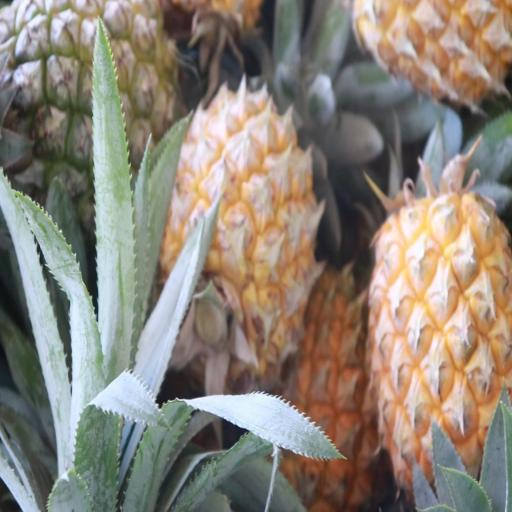Pineapple - v8 v1: (162, 91, 318, 375), (370, 196, 512, 508), (254, 264, 376, 508)
